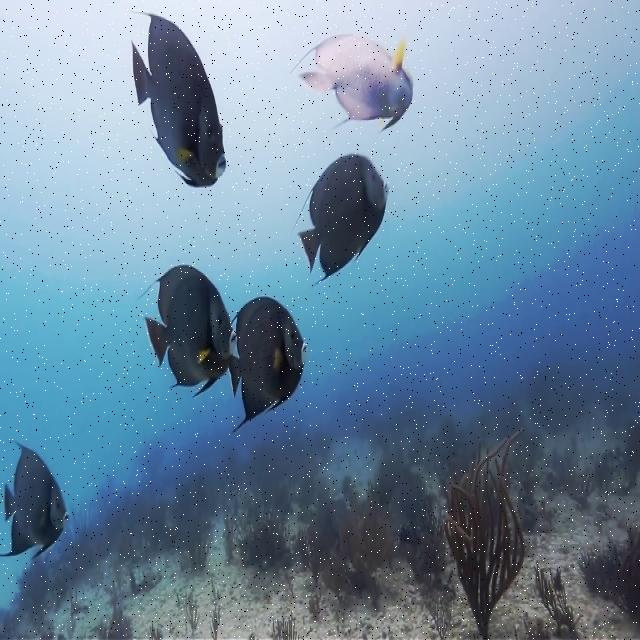aquatic plants: (444, 428, 529, 639)
fish: (130, 17, 226, 187), (298, 154, 389, 285), (298, 33, 413, 132), (144, 264, 232, 392), (228, 296, 309, 432), (0, 444, 68, 559)
